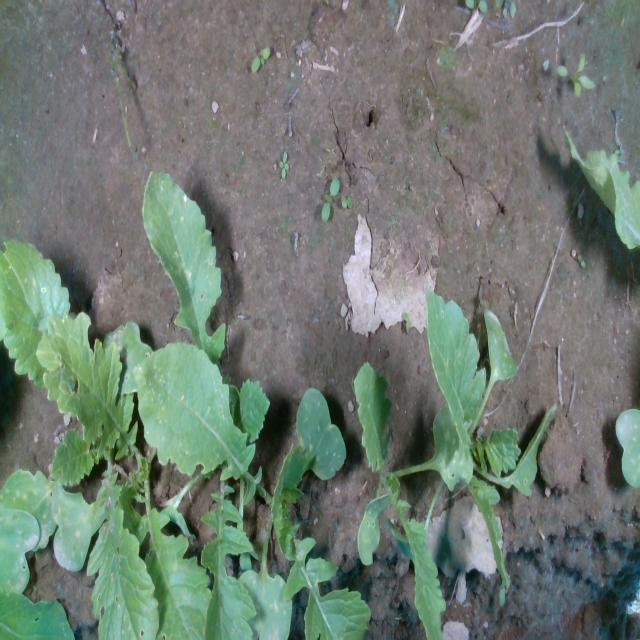weed: (320, 175, 340, 222), (249, 44, 271, 73), (278, 148, 290, 180), (340, 194, 353, 208), (577, 252, 585, 268)
